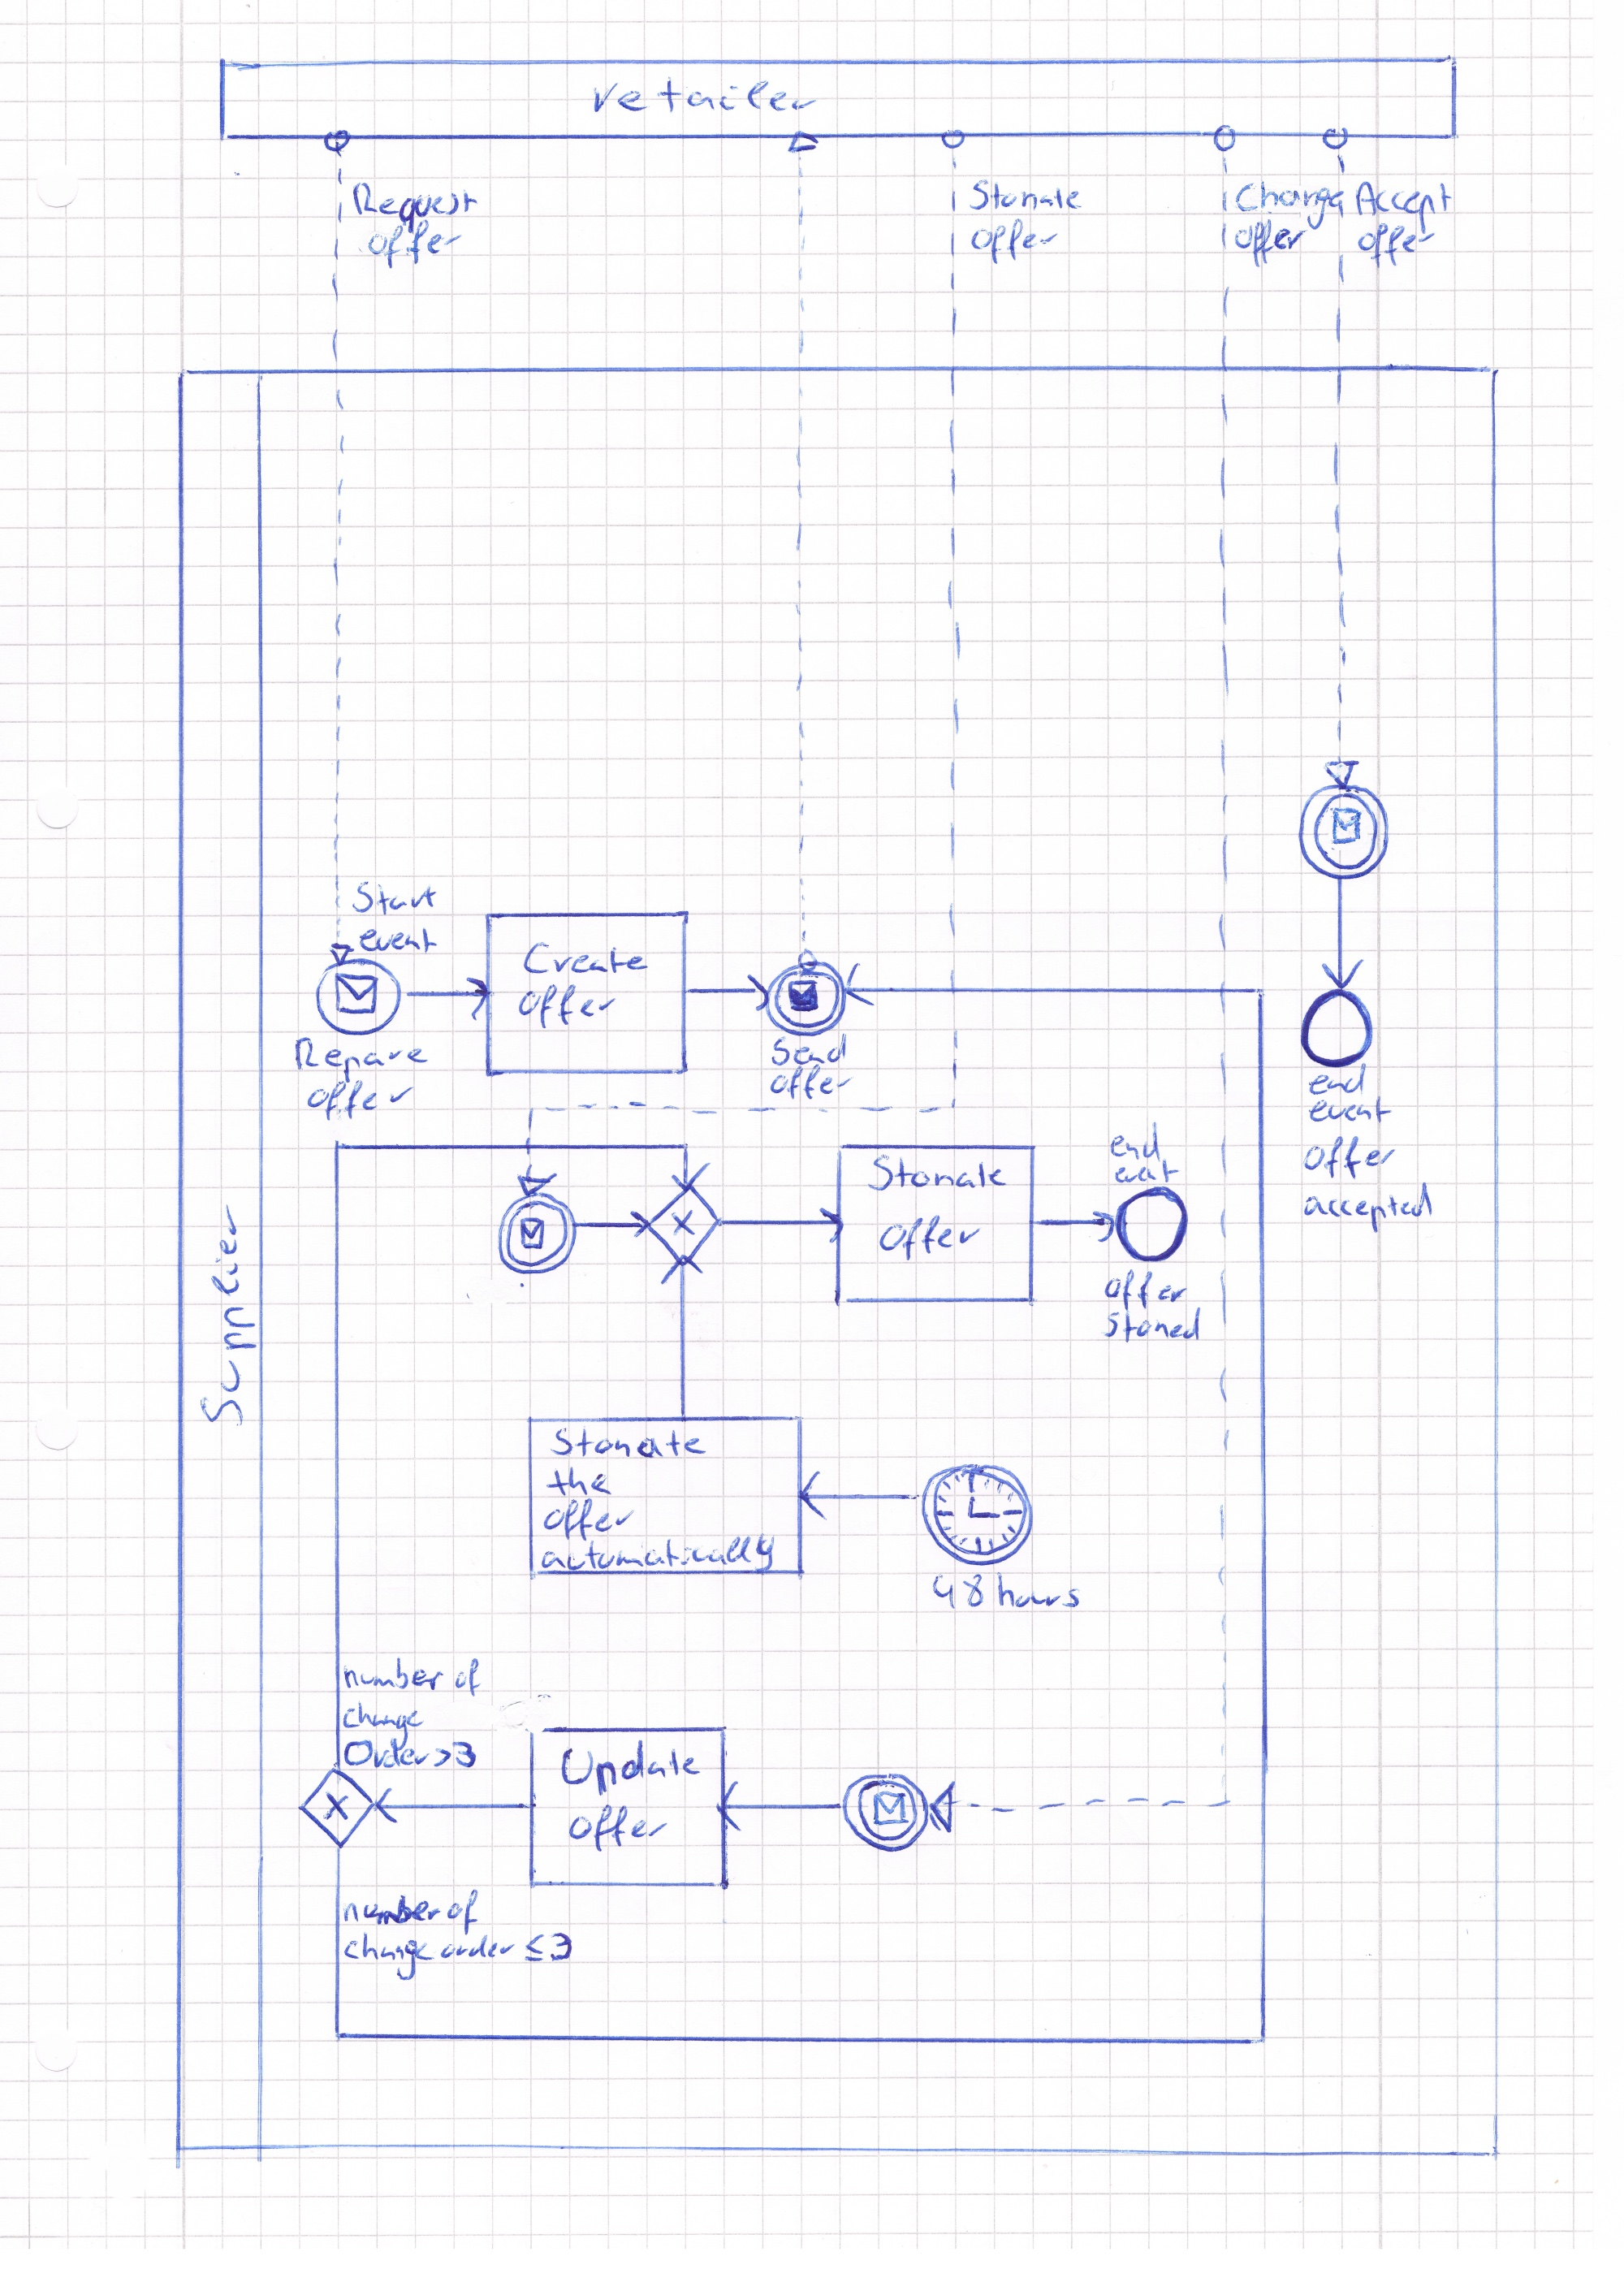3: (446, 1734, 483, 1775), (545, 1928, 576, 1966)
48: (924, 1566, 991, 1615)
<=: (518, 1928, 550, 1970)
>: (431, 1741, 455, 1773)
Accept: (1348, 174, 1457, 243)
Change: (1229, 176, 1350, 235)
Create: (517, 937, 654, 981)
Offer: (874, 1209, 988, 1267)
Order: (339, 1733, 438, 1775)
Repare: (288, 1032, 436, 1091)
Request: (344, 176, 485, 241)
Send: (766, 1028, 854, 1072)
Start: (346, 877, 443, 923)
Stonate: (859, 1149, 1016, 1198), (543, 1422, 715, 1466), (961, 172, 1090, 218)
Stoned: (1095, 1300, 1207, 1350)
Supplier: (192, 1195, 265, 1436)
Update: (554, 1734, 708, 1801)
accepted: (1297, 1176, 1439, 1239)
automatically: (534, 1525, 780, 1580)
change: (339, 1928, 439, 1986), (337, 1696, 429, 1757)
end: (1302, 1056, 1373, 1104), (1104, 1116, 1167, 1167)
event: (1302, 1090, 1397, 1130), (353, 923, 443, 959), (1109, 1153, 1186, 1190)
hours: (990, 1566, 1088, 1617)
number: (337, 1652, 450, 1698), (337, 1887, 448, 1931)
of: (443, 1884, 483, 1940), (450, 1652, 487, 1703)
offer: (561, 1799, 675, 1857), (511, 977, 624, 1035), (301, 1074, 422, 1126), (362, 214, 468, 274), (1297, 1130, 1401, 1184), (965, 214, 1067, 269), (538, 1494, 642, 1546), (1352, 216, 1443, 276), (1098, 1263, 1193, 1318), (1229, 214, 1313, 272), (763, 1060, 861, 1105)
order: (436, 1929, 522, 1965)
retailer: (585, 70, 824, 123)
the: (541, 1462, 620, 1501)
